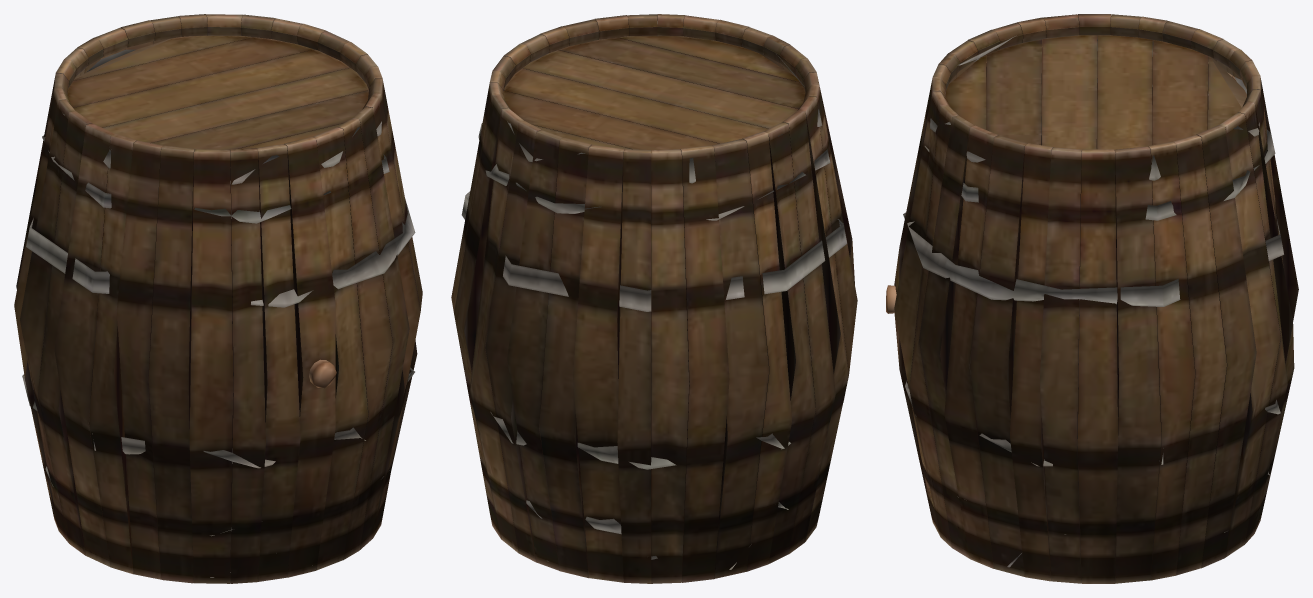
The model's file is scene-wine-barrel.glb.
The picture shows the model from 3 angles, left to right: view 1: azimuth 30°, elevation 25°; view 2: azimuth 150°, elevation 25°; view 3: azimuth 270°, elevation 25°; orthographic projection.
Parts seen in each view (by area): view 1: wine_barrel_01_Lid; view 2: wine_barrel_01_Lid; view 3: wine_barrel_01_Lid.
Part boxes in pixels (left/top/right/bottom): wine_barrel_01_Lid: left=14, top=14, right=422, bottom=583; wine_barrel_01_Lid: left=451, top=14, right=857, bottom=583; wine_barrel_01_Lid: left=886, top=14, right=1298, bottom=583.
Bounding box in the file's own units: 0.7391 × 0.8695 × 0.7539.
Materials: 1 (1 with a texture image).
